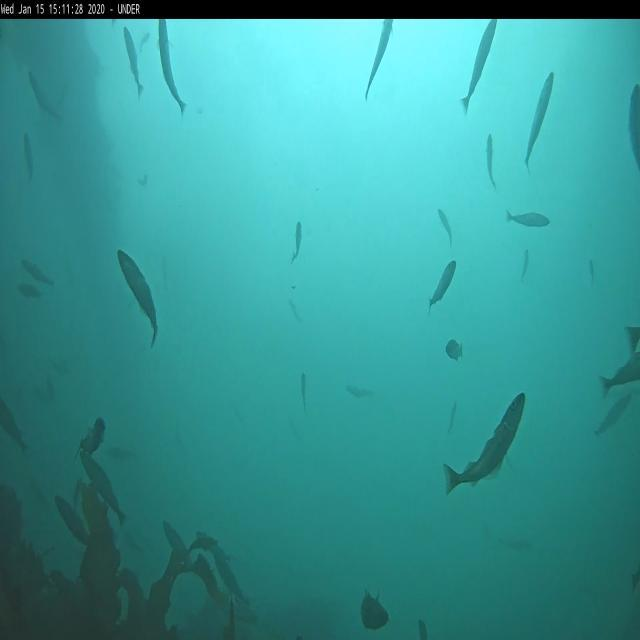fish: (444, 392, 524, 498), (116, 248, 158, 348), (77, 451, 128, 532), (459, 20, 498, 119), (157, 20, 188, 116), (524, 72, 554, 167), (366, 20, 394, 104), (54, 496, 94, 549), (163, 518, 198, 576), (28, 68, 60, 126), (1, 400, 32, 458), (598, 354, 640, 396), (122, 26, 146, 97), (596, 394, 632, 437), (428, 261, 458, 311), (360, 588, 390, 630), (506, 207, 551, 230), (22, 256, 54, 287), (486, 134, 499, 192), (22, 132, 36, 184), (346, 378, 374, 401), (438, 207, 453, 244), (18, 279, 42, 302), (445, 336, 463, 359), (299, 372, 308, 414), (292, 221, 300, 263), (520, 248, 530, 280), (586, 258, 594, 280)
